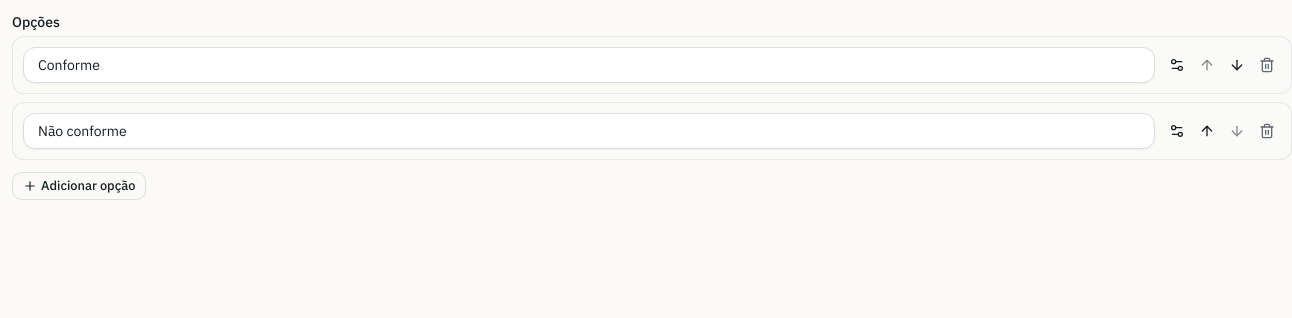
it: OptionsEditor — task #4 › hides score/código/flagged behind the per-row Opções toggle
Expected: the text "Pontuação" is not shown
Expected: the text "Marcar como sinalizado" is not shown
Toggle the first row's "Opções" panel open.
Click the button named "Mostrar opções da opção 1". click: (1177,65)
box: [1163,51,1191,79]
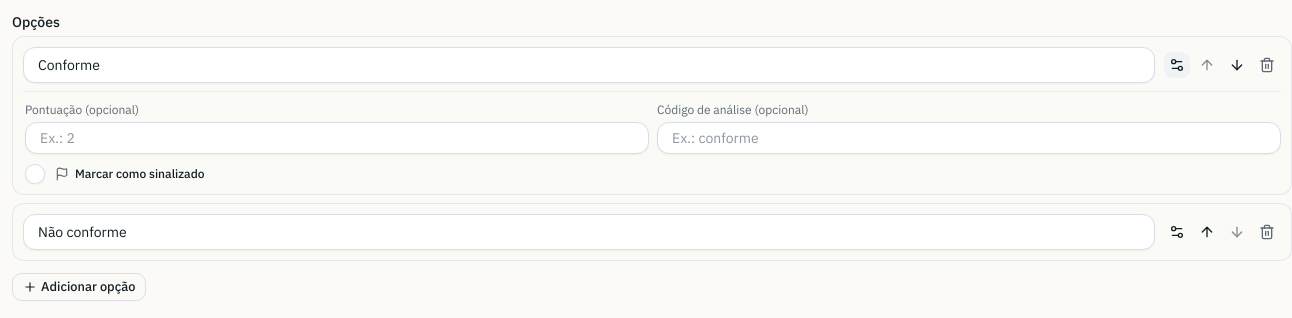
Result: the text "Pontuação" is shown at [25,102,82,117]
Result: the text "Código de análise" is shown at [657,102,752,117]
Result: the text "Marcar como sinalizado" is shown at [55,166,204,182]
